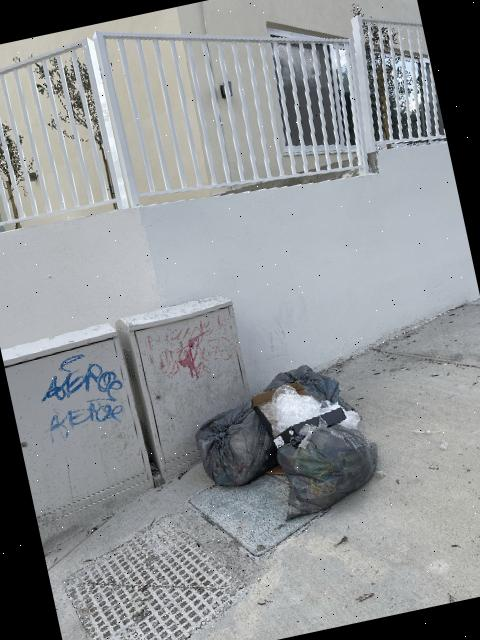Other: (253, 384, 346, 447)
Recyclable -Grey-: (277, 413, 377, 519), (195, 400, 276, 485), (266, 364, 352, 409)
